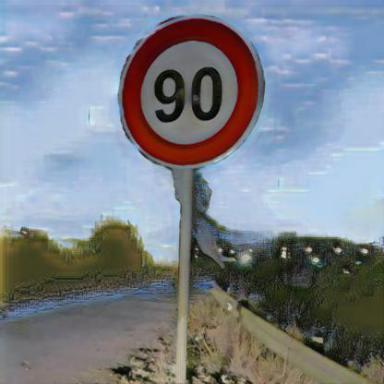Speed_limit_90: (123, 21, 263, 168)
